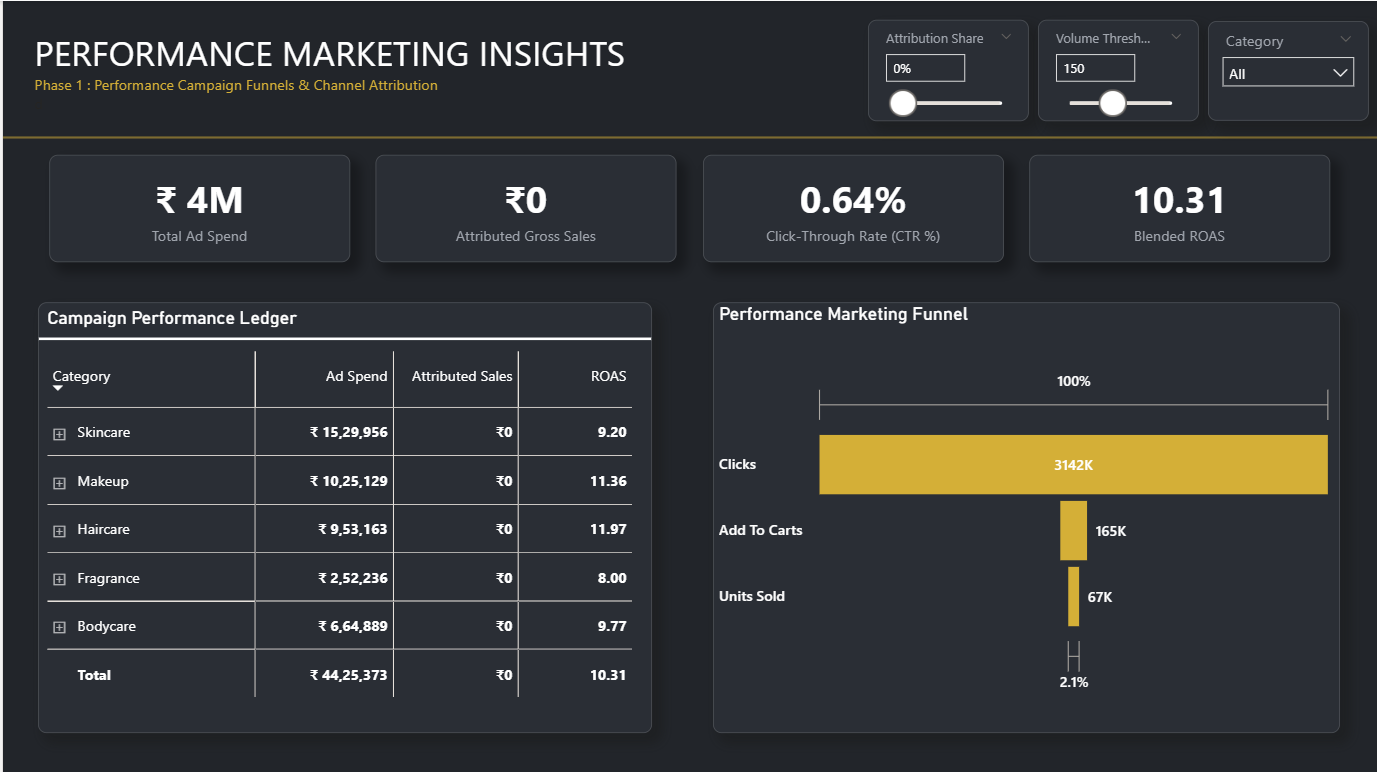

What the dashboard file says about the page in this screenshot:
{"tool":"powerbi","page":{"name":"PERFORMANCE MARKETING INSIGHTS","canvas":[1280,720],"ordinal":2},"visuals":[{"type":"textbox","box":[24.2,20.5,570.1,89.4],"z":0},{"type":"slicer","fields":{"Values":["Attribution Share.Attribution Share"]},"box":[804.4,16.9,149.8,94.2],"z":1000},{"type":"slicer","fields":{"Values":["Volume Threshold.Volume Threshold"]},"box":[962.6,16.9,149.8,94.2],"z":2000},{"type":"shape","box":[0,120.8,1280.2,12.1],"z":3000},{"type":"card","fields":{"Values":["Calculations_Ledger.Total Ad Spend"]},"box":[43,143,280,100],"z":4000},{"type":"card","fields":{"Values":["Calculations_Ledger.Click-Through Rate (CTR %)"]},"box":[651,143,280,100],"z":5000},{"type":"card","fields":{"Values":["Calculations_Ledger.Return on Ad Spend (ROAS)"]},"box":[955,143,280,100],"z":6000},{"type":"card","fields":{"Values":["Calculations_Ledger.Attributed Gross Sales"]},"box":[347,143,280,100],"z":7000},{"type":"pivotTable","title":"Campaign Performance Ledger","fields":{"Rows":["Dim_Campaigns.Category","Dim_Campaigns.Medium","Dim_Campaigns.Ad_Descriptor"],"Values":["Calculations_Ledger.Total Ad Spend","Calculations_Ledger.Attributed Gross Sales","Calculations_Ledger.Return on Ad Spend (ROAS)"]},"box":[32.6,280.2,571.3,401],"z":8000},{"type":"funnel","title":"Performance Marketing Funnel","fields":{"Y":["Calculations_Ledger.Total Clicks","Calculations_Ledger.Total Add To Carts","Calculations_Ledger.Total Units Sold"]},"box":[660.7,280.2,583.4,401],"z":9000},{"type":"slicer","fields":{"Values":["Dim_Category_Bridge.Category"]},"box":[1120.8,18.1,149.8,93],"z":10000}]}

Visuals, with their boxes in screenshot pixels (x1, y1, x2, y2), scaled from the page's 1280x720 canvas onto the 1377x772 screenshot:
textbox: Rect(26, 22, 639, 118)
slicer - Attribution Share.Attribution Share: Rect(865, 18, 1027, 119)
slicer - Volume Threshold.Volume Threshold: Rect(1036, 18, 1197, 119)
shape: Rect(0, 130, 1376, 142)
card - Calculations_Ledger.Total Ad Spend: Rect(46, 153, 347, 261)
card - Calculations_Ledger.Click-Through Rate (CTR %): Rect(700, 153, 1002, 261)
card - Calculations_Ledger.Return on Ad Spend (ROAS): Rect(1027, 153, 1329, 261)
card - Calculations_Ledger.Attributed Gross Sales: Rect(373, 153, 675, 261)
"Campaign Performance Ledger" pivotTable: Rect(35, 300, 650, 730)
"Performance Marketing Funnel" funnel: Rect(711, 300, 1338, 730)
slicer - Dim_Category_Bridge.Category: Rect(1206, 19, 1367, 119)
